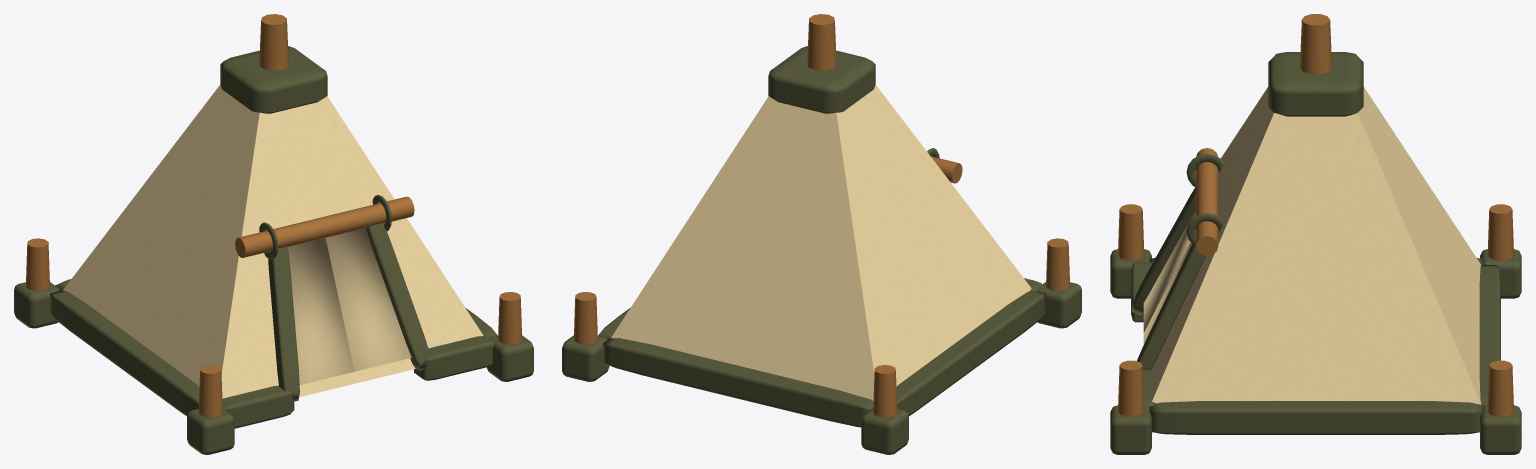
File: stylized_pyramid_tent_source.glb
3 renders of one model, left to right at view 1: azimuth 30°, elevation 25°; view 2: azimuth 150°, elevation 25°; view 3: azimuth 270°, elevation 25°, orthographic. The views are drawn at different scales.
Parts seen in each view (by area): view 1: TentShell, DoorRightFlap, DoorLeftFlap, BottomRailLeft, ApexCap, DoorRoller, DoorLeftStrap, DoorRightStrap, BottomRailFrontRight, BottomRailFrontLeft, CornerBlockFrontLeft, CornerBlockFrontRight (+5 smaller); view 2: TentShell, BottomRailBack, BottomRailLeft, ApexCap, CornerBlockBackLeft, CornerBlockBackRight, ApexPost, CornerBlockFrontLeft, CornerPostBackLeft, CornerPostFrontLeft, CornerPostBackRight; view 3: TentShell, BottomRailRight, ApexCap, BottomRailBack, DoorRightStrap, DoorRoller, ApexPost, CornerBlockFrontRight, CornerBlockBackRight, DoorLeftStrap, CornerPostFrontLeft, CornerPostBackLeft (+9 smaller).
Boxes of the visible parts, left/top/right/bottom form: TentShell: left=63, top=84, right=483, bottom=398; DoorRightFlap: left=325, top=228, right=411, bottom=371; DoorLeftFlap: left=288, top=238, right=354, bottom=384; BottomRailLeft: left=49, top=290, right=199, bottom=415; ApexCap: left=220, top=46, right=327, bottom=113; DoorRoller: left=235, top=196, right=414, bottom=257; DoorLeftStrap: left=268, top=246, right=299, bottom=401; DoorRightStrap: left=366, top=223, right=430, bottom=371; BottomRailFrontRight: left=414, top=335, right=494, bottom=380; BottomRailFrontLeft: left=222, top=385, right=294, bottom=428; CornerBlockFrontLeft: left=187, top=408, right=234, bottom=454; CornerBlockFrontRight: left=487, top=335, right=533, bottom=381; TentShell: left=611, top=84, right=1031, bottom=400; BottomRailBack: left=603, top=338, right=873, bottom=427; BottomRailLeft: left=896, top=291, right=1046, bottom=415; ApexCap: left=768, top=46, right=875, bottom=113; CornerBlockBackLeft: left=861, top=408, right=908, bottom=454; CornerBlockBackRight: left=562, top=335, right=609, bottom=381; ApexPost: left=807, top=14, right=836, bottom=70; CornerBlockFrontLeft: left=1037, top=282, right=1081, bottom=328; CornerPostBackLeft: left=873, top=365, right=897, bottom=417; CornerPostFrontLeft: left=1046, top=238, right=1070, bottom=290; CornerPostBackRight: left=573, top=292, right=597, bottom=344; TentShell: left=1151, top=87, right=1481, bottom=404; BottomRailRight: left=1149, top=401, right=1483, bottom=434; ApexCap: left=1268, top=52, right=1363, bottom=116; BottomRailBack: left=1479, top=264, right=1500, bottom=406; DoorRightStrap: left=1137, top=244, right=1205, bottom=370; DoorRoller: left=1196, top=148, right=1218, bottom=256; ApexPost: left=1300, top=14, right=1331, bottom=73; CornerBlockFrontRight: left=1110, top=405, right=1151, bottom=454; CornerBlockBackRight: left=1480, top=405, right=1521, bottom=454; DoorLeftStrap: left=1132, top=186, right=1195, bottom=315; CornerPostFrontLeft: left=1118, top=204, right=1144, bottom=260; CornerPostBackLeft: left=1487, top=204, right=1513, bottom=260.
Size of the model in its own units: 2.76 by 2.6 by 2.76.
4 materials, 4 textured.
